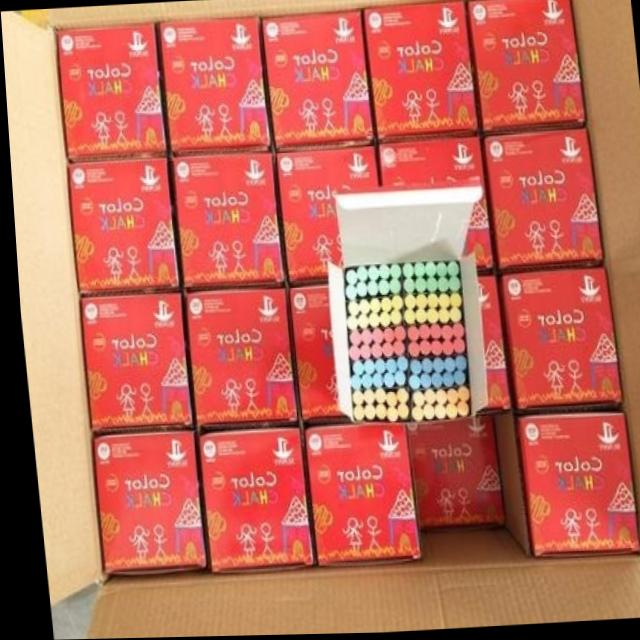box: (1, 0, 640, 639), (324, 180, 482, 427), (487, 412, 632, 560), (494, 269, 618, 414), (191, 427, 308, 576), (480, 129, 599, 273), (295, 424, 413, 568), (466, 0, 587, 135), (363, 2, 478, 144), (376, 137, 492, 276), (259, 11, 373, 152), (63, 156, 177, 297), (54, 23, 168, 162), (157, 18, 271, 156), (87, 431, 197, 574), (169, 153, 282, 291), (76, 293, 186, 433), (180, 289, 290, 429), (273, 144, 378, 285), (402, 419, 495, 530), (286, 283, 340, 424), (471, 276, 505, 418)
